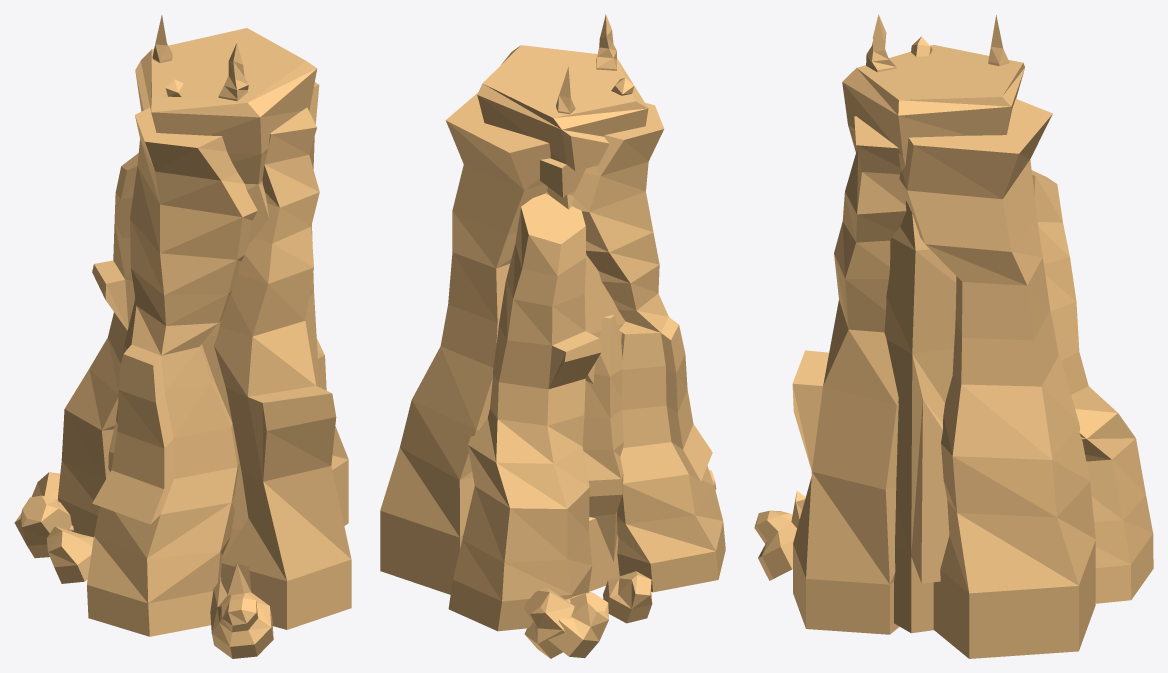
Rendered from Desert Pillar.glb.
3 views of the same model, side by side, from view 1: azimuth 30°, elevation 25°; view 2: azimuth 150°, elevation 25°; view 3: azimuth 270°, elevation 25° (orthographic). The views are drawn at different scales.
Parts seen in each view (by area): view 1: Node; view 2: Node; view 3: Node.
Part boxes in pixels (box(x1,y1,x2,y2)): Node: box(14, 15, 351, 658); Node: box(380, 14, 725, 658); Node: box(754, 14, 1153, 658).
Bounding box in the file's own units: 0.3093 × 0.5876 × 0.359.
